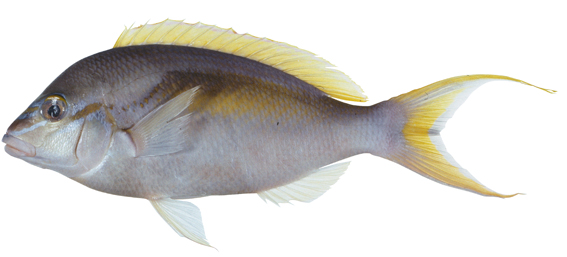fish: (1, 19, 558, 251)
